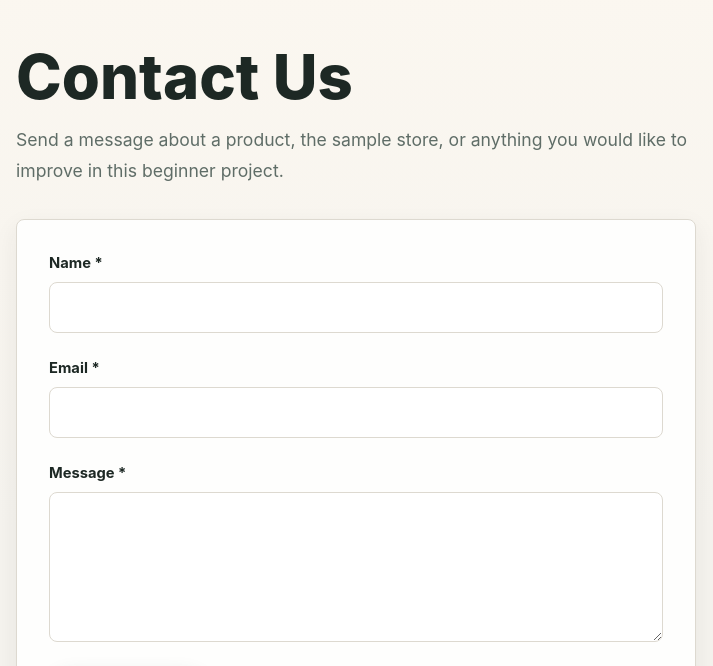
it: ContactForm › shows an error when email is invalid
Type "Mina" into the field labelled "Name *". click: (356, 307)
box: [49,282,663,333]
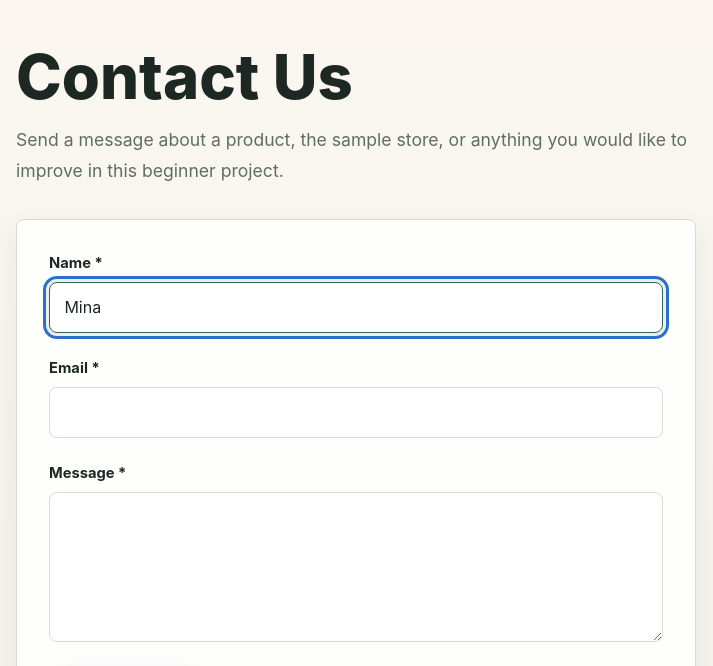
Type "not-an-email" into the field labelled "Email *". click: (356, 412)
box: [49,387,663,438]
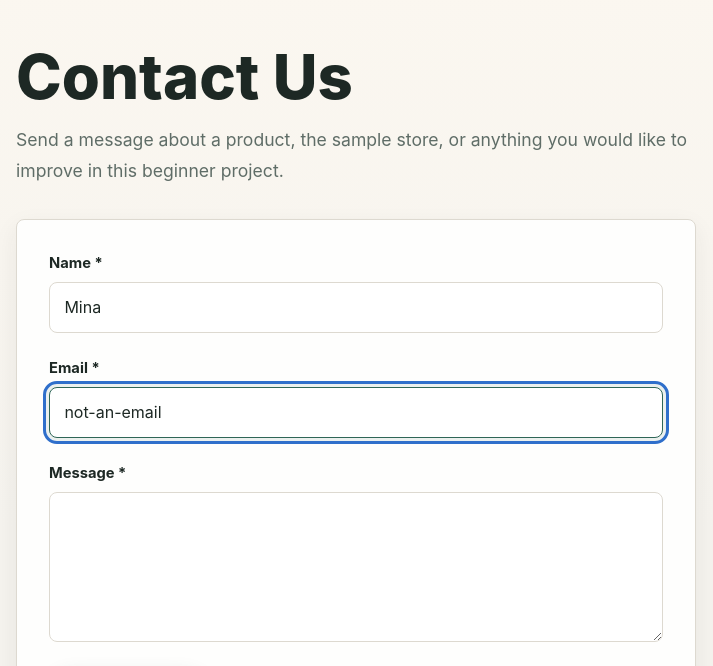
Type "Please send details." into the text box labelled "Message *". click: (356, 567)
box: [49,492,663,642]
(page scrolled)
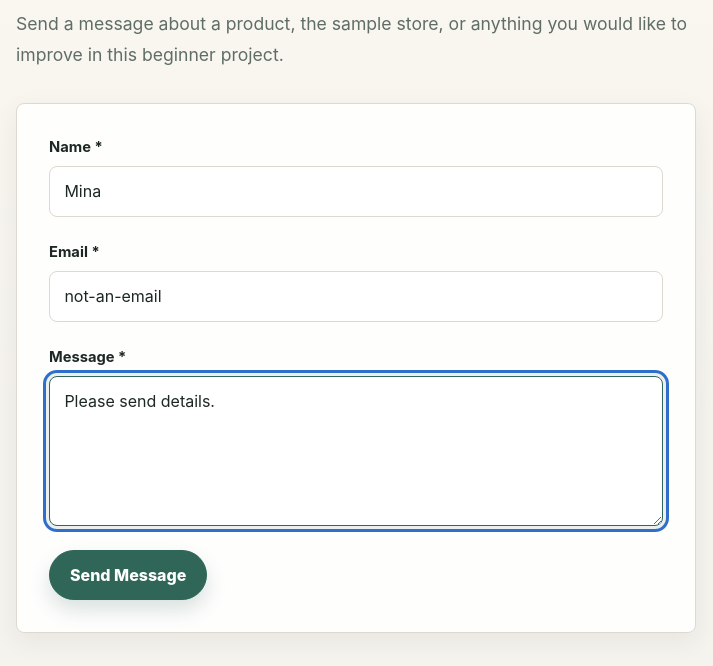
Click the button "Send Message". click: (128, 575)
box: [49,550,207,600]
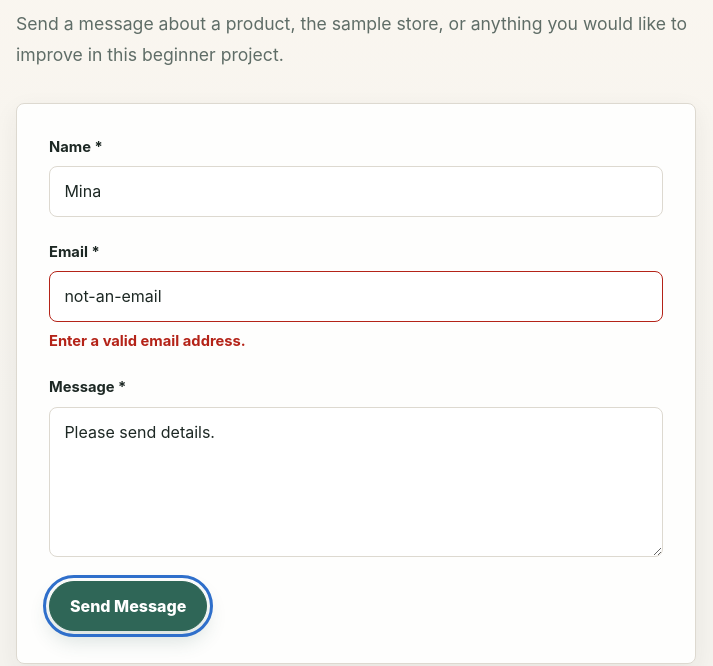
expect the text "Enter a valid email address." is shown: met, box [49,332,246,350]
